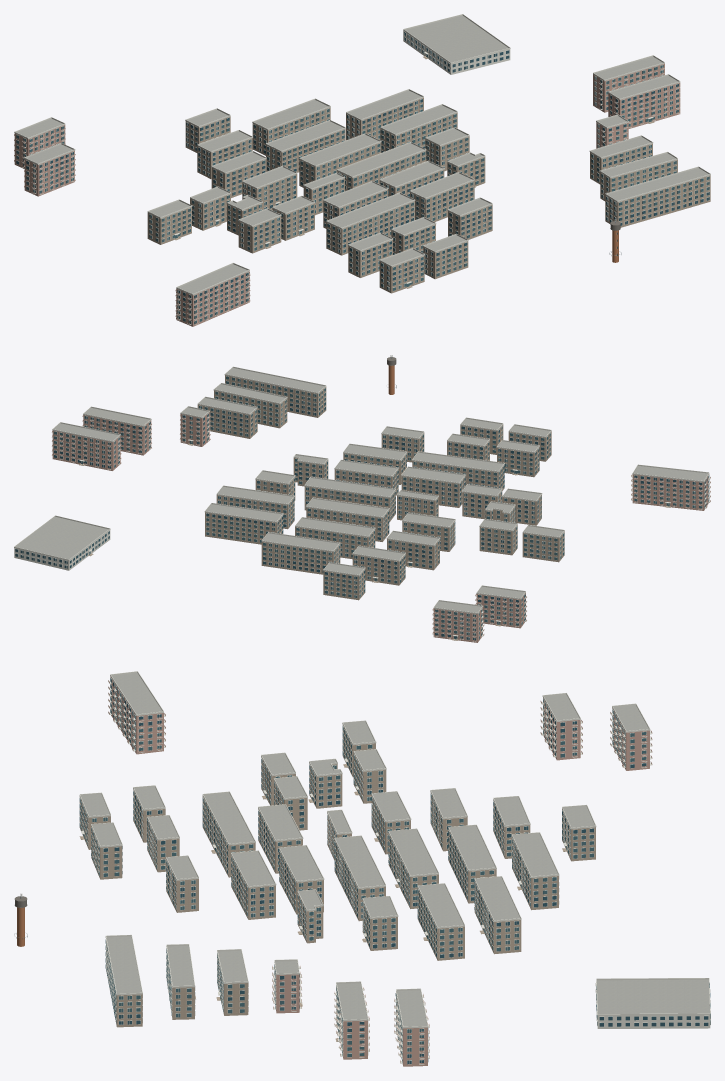
Rendered from chunk-p0-p0.glb.
3 views of the same model, one above another, from view 1: azimuth 30°, elevation 25°; view 2: azimuth 150°, elevation 25°; view 3: azimuth 270°, elevation 25° (orthographic). The views are drawn at different scales.
Parts seen in each view (by area): view 1: chunk-p0-p0; view 2: chunk-p0-p0; view 3: chunk-p0-p0.
Part boxes in pixels (x1,y1,x2,y2): chunk-p0-p0: [14, 14, 710, 326]; chunk-p0-p0: [14, 355, 710, 642]; chunk-p0-p0: [14, 671, 710, 1066].
Bounding box in the file's own units: 403 × 32.88 × 334.
Materials: 10 (2 with a texture image).
